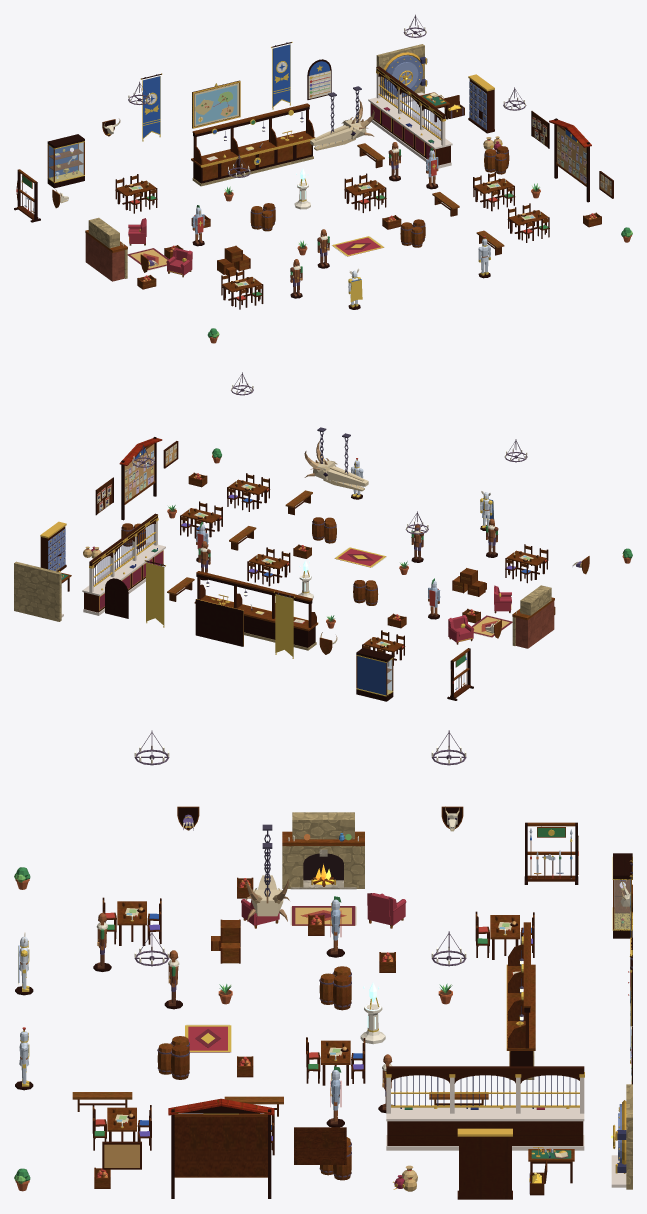
Rendered from shop_guild_interior.gltf.
The picture shows the model from 3 angles, top to bottom: view 1: azimuth 30°, elevation 25°; view 2: azimuth 150°, elevation 25°; view 3: azimuth 270°, elevation 25°; orthographic projection. The views are drawn at different scales.
Visible parts, largest first — view 1: shop_guild_interior; view 2: shop_guild_interior; view 3: shop_guild_interior.
Boxes of the visible parts, <box> form: shop_guild_interior: <box>14,14,632,343</box>; shop_guild_interior: <box>14,372,632,701</box>; shop_guild_interior: <box>14,730,632,1199</box>.
Size of what is drawn, in the model's own units: 23.04 by 6.95 by 18.75.
12 materials, 4 textured.
